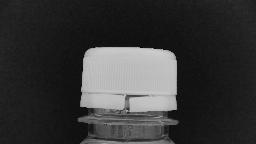Broken Ring: (102, 91, 160, 115)
Loose Cap: (70, 89, 184, 129)
